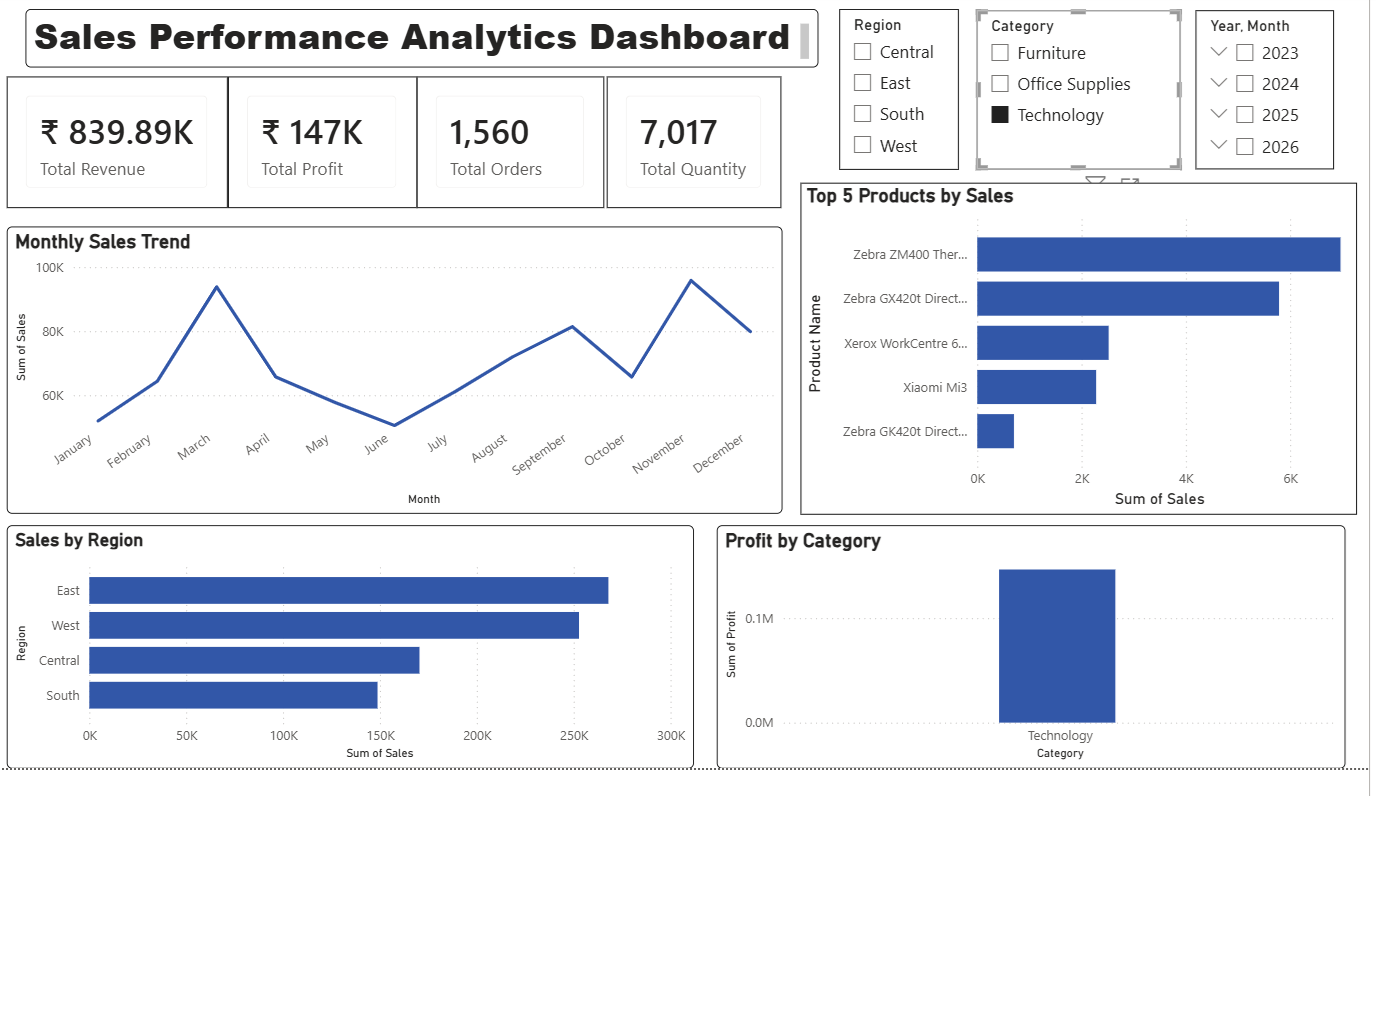

The dashboard page shown, as its layout file describes it:
{"tool":"powerbi","page":{"name":"Page 1","canvas":[1280,720],"ordinal":0},"visuals":[{"type":"cardVisual","fields":{"Data":["Sum(samplesuperstore.Sales)"]},"box":[12.3,76.8,205.8,122.1],"z":0},{"type":"cardVisual","fields":{"Data":["Sum(samplesuperstore.Profit)"]},"box":[218.2,76.8,175.6,122.1],"z":1000},{"type":"cardVisual","fields":{"Data":["Count(samplesuperstore.Order ID)"]},"box":[394.2,76.7,174.4,122.1],"z":2000},{"type":"cardVisual","fields":{"Data":["Sum(samplesuperstore.Quantity)"]},"box":[570.9,76.7,162.8,122.1],"z":3000},{"type":"lineChart","title":"Monthly Sales Trend","fields":{"Y":["Sum(samplesuperstore.Sales)"],"Category":["samplesuperstore.Order Date.Variation.Date Hierarchy.Month"]},"box":[12.3,216.8,721.8,267.6],"z":4000},{"type":"clusteredBarChart","title":"Sales by Region","fields":{"Category":["samplesuperstore.Region"],"Y":["Sum(samplesuperstore.Sales)"]},"box":[12.3,494,639.5,226.4],"z":5000},{"type":"clusteredColumnChart","title":"Profit by Category","fields":{"Category":["samplesuperstore.Category"],"Y":["Sum(samplesuperstore.Profit)"]},"box":[673.8,494,584.6,226.4],"z":6000},{"type":"slicer","fields":{"Values":["samplesuperstore.Region"]},"box":[787.7,13.7,111.1,149.6],"z":7000},{"type":"slicer","fields":{"Values":["samplesuperstore.Category"]},"box":[915.3,15.1,189.4,148.2],"z":8000},{"type":"slicer","fields":{"Values":["samplesuperstore.Order Date.Variation.Date Hierarchy.Year","samplesuperstore.Order Date.Variation.Date Hierarchy.Month"]},"box":[1118.4,15.1,129,148.2],"z":9000},{"type":"textbox","box":[30.2,14,737.2,54.7],"z":10000},{"type":"barChart","title":"Top 5 Products by Sales","fields":{"Category":["samplesuperstore.Product Name"],"Y":["Sum(samplesuperstore.Sales)"]},"box":[750.6,175.6,517.3,308.7],"z":11000}]}

Visuals, with their boxes in screenshot pixels (x1, y1, x2, y2):
cardVisual - Sum(samplesuperstore.Sales): [13, 81, 231, 211]
cardVisual - Sum(samplesuperstore.Profit): [231, 81, 417, 211]
cardVisual - Count(samplesuperstore.Order ID): [418, 81, 603, 211]
cardVisual - Sum(samplesuperstore.Quantity): [605, 81, 778, 211]
"Monthly Sales Trend" lineChart: [13, 230, 778, 514]
"Sales by Region" clusteredBarChart: [13, 524, 691, 764]
"Profit by Category" clusteredColumnChart: [714, 524, 1334, 764]
slicer - samplesuperstore.Region: [835, 15, 953, 173]
slicer - samplesuperstore.Category: [970, 16, 1171, 173]
slicer - samplesuperstore.Order Date.Variation.Date Hierarchy.Year x samplesuperstore.Order Date.Variation.Date Hierarchy.Month: [1186, 16, 1322, 173]
textbox: [32, 15, 814, 73]
"Top 5 Products by Sales" barChart: [796, 186, 1344, 513]
